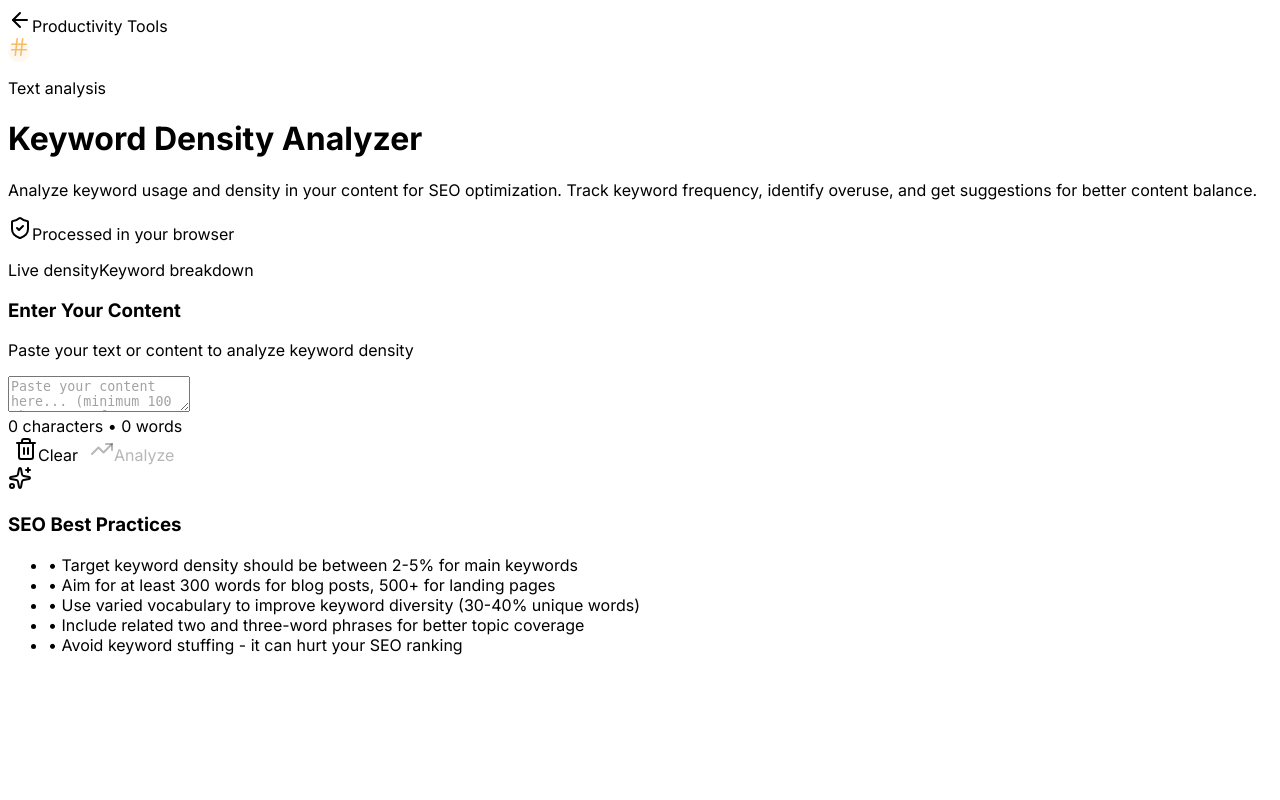
it: Keyword Density Analyzer Page › Keyword Analysis › analyzes text and shows results
This screenshot has width=1280, height=800.
Replace the text in the text box with placeholder "Paste your content here" with "SEO optimization is important for SEO. Good SEO practices help with content optimization and SEO ranking.". click: coordinates (99, 394)
box: [8,376,190,412]
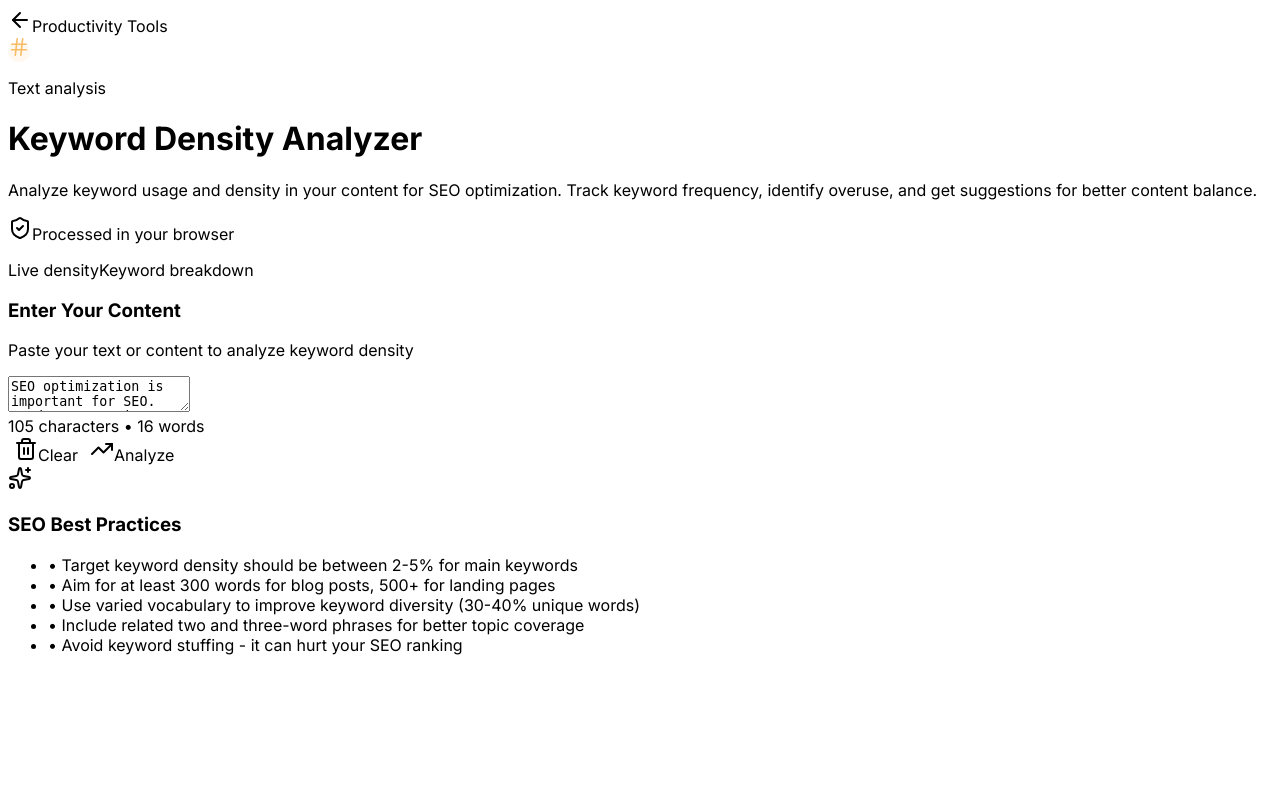
Click the button "Analyze". click: coordinates (132, 451)
box: [84,436,180,466]
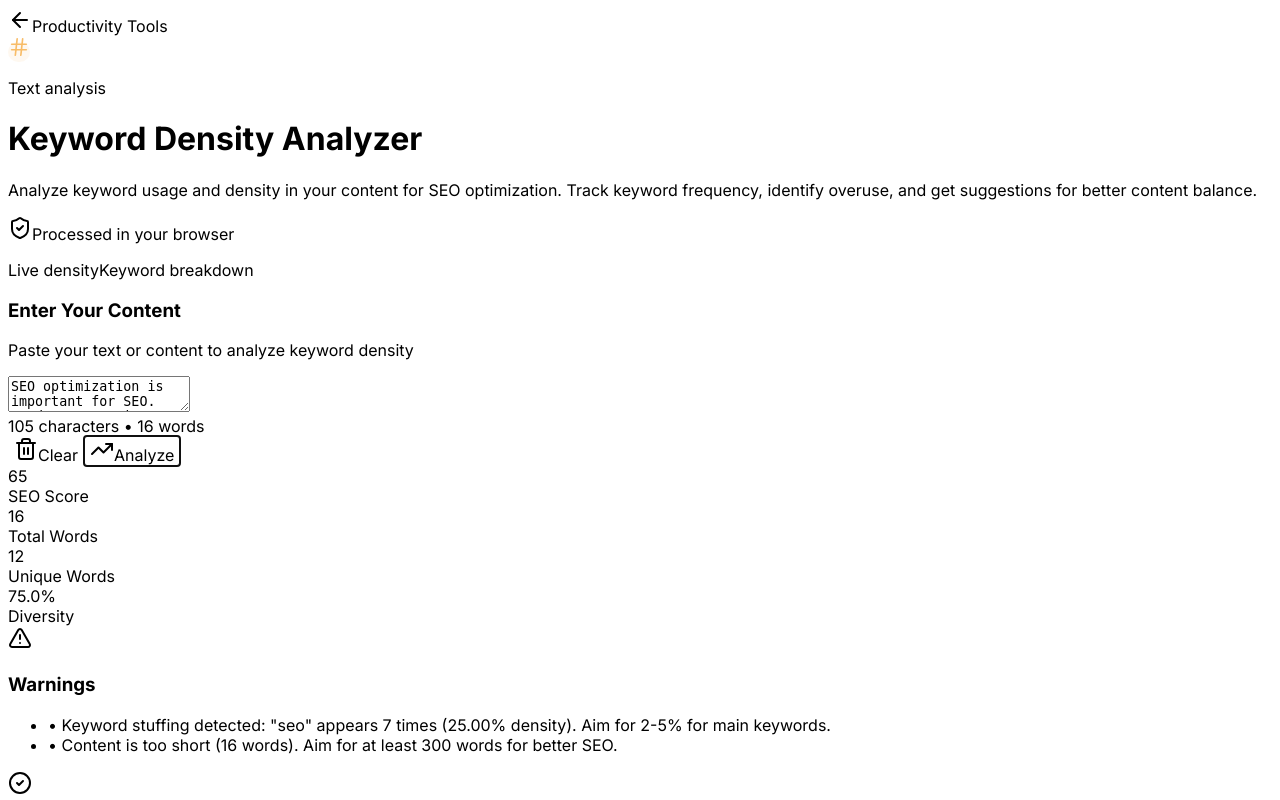
Now the text "SEO Score" is shown, box [8,486,89,506]
Now the text "Total Words" is shown, box [8,526,98,546]
Now the text "Unique Words" is shown, box [8,566,115,586]
